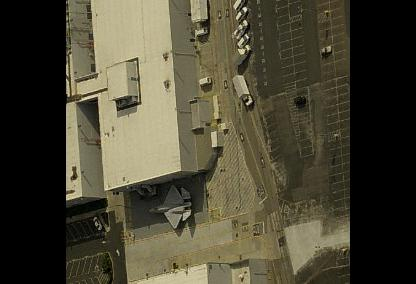US2: (148, 183, 192, 226)
